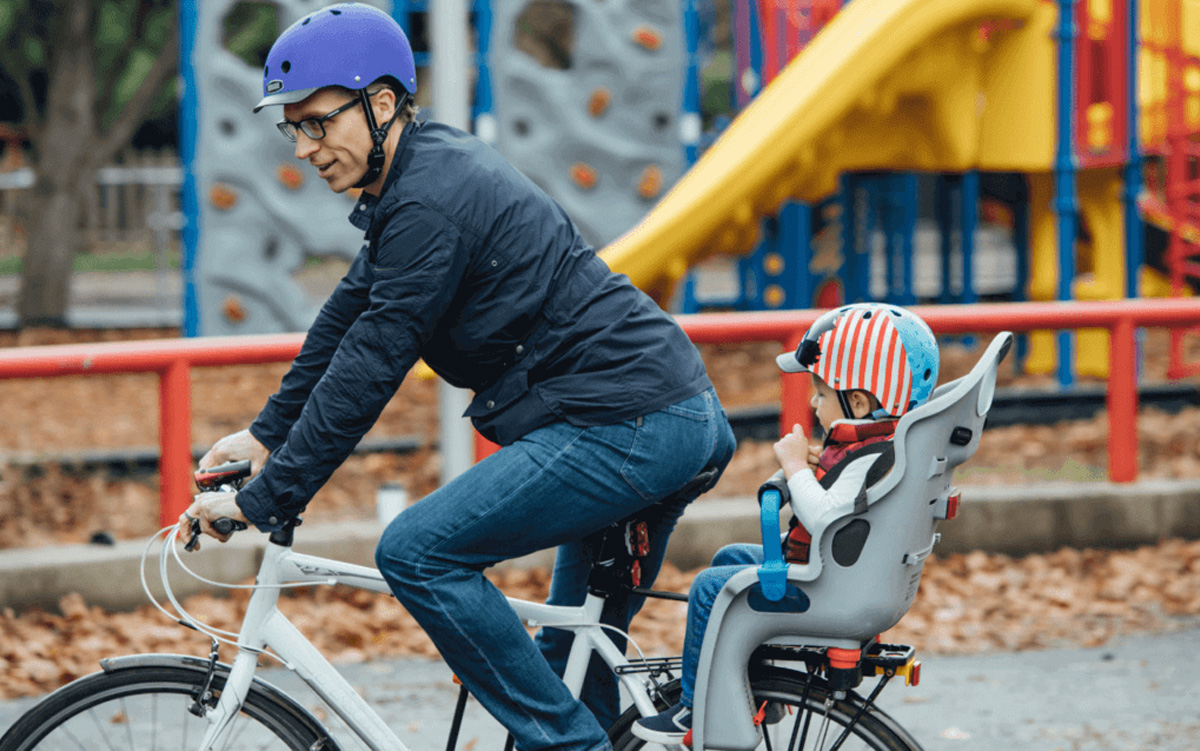helmet: (252, 1, 418, 194), (795, 302, 940, 435)
